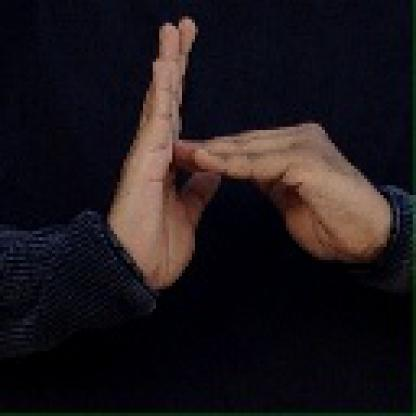Z: (98, 13, 387, 288)
